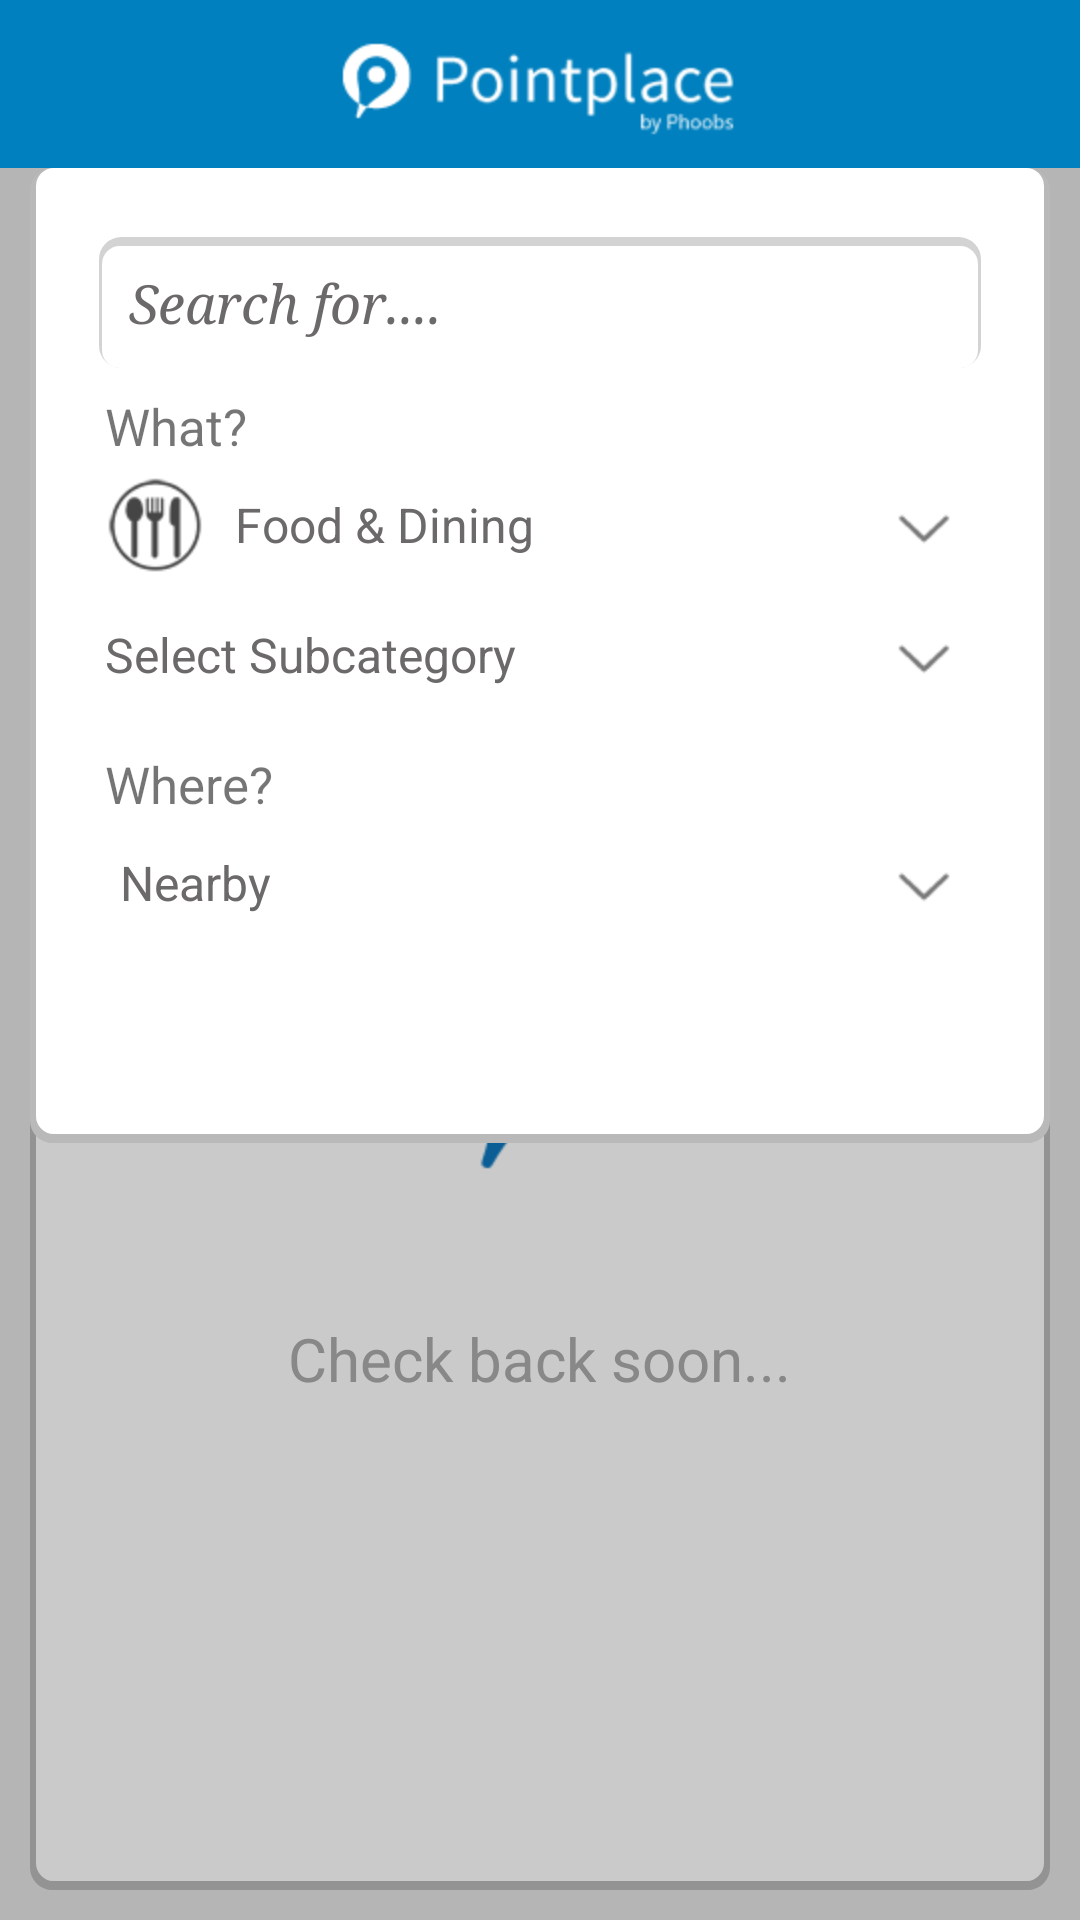

Screen size 1080 × 1920. Icon name, then its center in pixels as point (x, y):
drop menu: point (924, 529), point (924, 659), point (924, 887)
